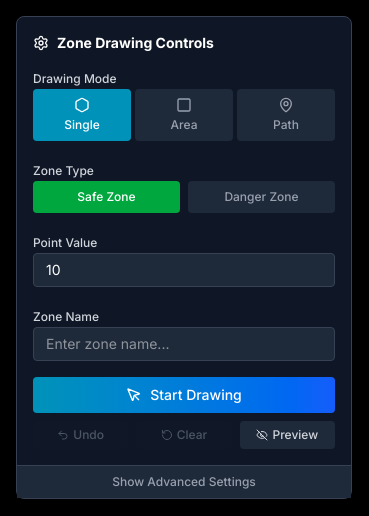
Scenario: GameManagerControls › Point Value Input › should handle point value changes
This screenshot has width=369, height=516.
Select all and type new value (more reliable than clear)
Click the number field with placeholder "Points per tick". click: (184, 270)
box: [33,253,335,287]
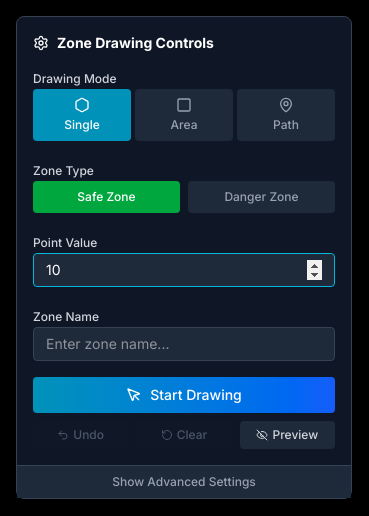
Type keys "{Control>}a{/Control}"
Type keys "25"
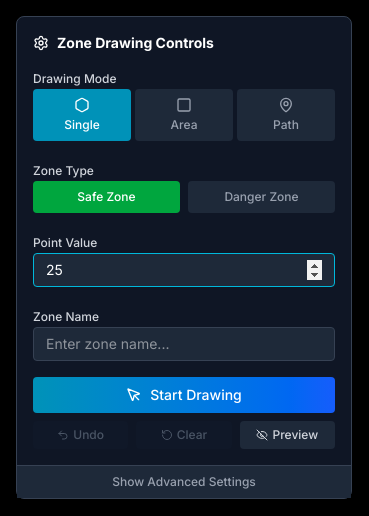
Now the number field with placeholder "Points per tick" holds "25", box [33,253,335,287]
